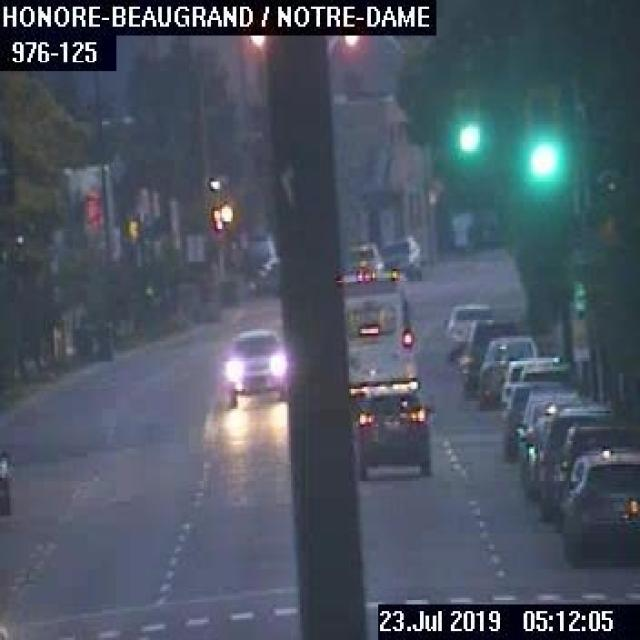bus: (342, 269, 412, 381)
vehicle: (561, 452, 638, 566), (554, 425, 638, 525), (346, 382, 430, 476), (224, 324, 286, 402), (501, 380, 562, 459), (458, 318, 514, 397), (477, 335, 537, 407), (502, 356, 560, 409), (442, 303, 493, 359), (378, 234, 421, 278), (516, 366, 571, 384), (347, 242, 382, 269), (0, 442, 11, 514)
